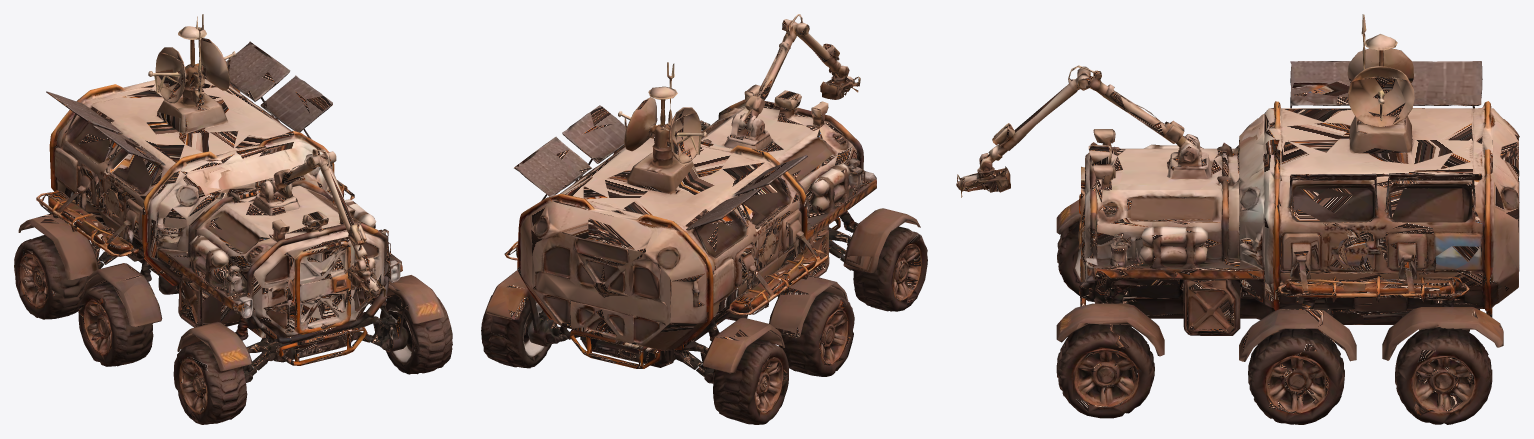
The model's file is rescue-rover.glb.
3 views of the same model, side by side, from view 1: azimuth 30°, elevation 25°; view 2: azimuth 150°, elevation 25°; view 3: azimuth 270°, elevation 25° (orthographic). The views are drawn at different scales.
Visible parts, largest first — view 1: tripo_node_de45bf67-6367-400b-940b-abf032bcde76; view 2: tripo_node_de45bf67-6367-400b-940b-abf032bcde76; view 3: tripo_node_de45bf67-6367-400b-940b-abf032bcde76.
Boxes of the visible parts, x1,y1,x2,y2 form: tripo_node_de45bf67-6367-400b-940b-abf032bcde76: [14, 14, 452, 424]; tripo_node_de45bf67-6367-400b-940b-abf032bcde76: [481, 14, 927, 424]; tripo_node_de45bf67-6367-400b-940b-abf032bcde76: [956, 14, 1519, 424].
Bounding box in the file's own units: 0.6148 × 0.6522 × 0.9826.
1 material, 1 textured.
